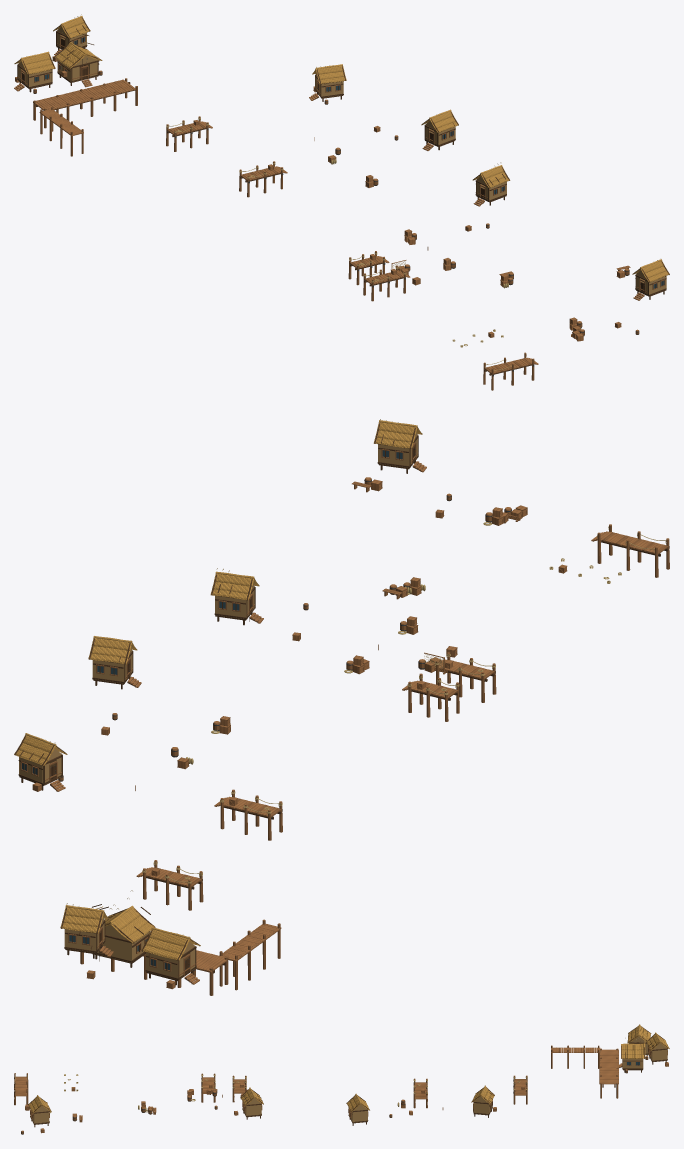
Rendered from coast.glb.
The picture shows the model from 3 angles, top to bottom: view 1: azimuth 30°, elevation 25°; view 2: azimuth 150°, elevation 25°; view 3: azimuth 270°, elevation 25°; orthographic projection. The views are drawn at different scales.
Visible parts, largest first — view 1: Solid_Ref_D19_Wood, Solid_Ref_D19_Deck, Solid_Ref_D19_DryThatch, Solid_Ref_D19_Beam, Solid_Ref_D19_WovenWall; view 2: Solid_Ref_D19_Wood, Solid_Ref_D19_DryThatch, Solid_Ref_D19_Deck, Solid_Ref_D19_WovenWall, Solid_Ref_D19_Beam, Solid_Ref_Rope; view 3: Solid_Ref_D19_Deck, Solid_Ref_D19_Wood, Solid_Ref_D19_DryThatch, Solid_Ref_D19_WovenWall, Solid_Ref_D19_Beam, Solid_Ref_Rope.
Boxes of the visible parts, box(x1,y1,x2,y2) form: Solid_Ref_D19_Wood: box(15, 35, 665, 390); Solid_Ref_D19_Deck: box(14, 49, 644, 373); Solid_Ref_D19_DryThatch: box(14, 16, 669, 282); Solid_Ref_D19_Beam: box(15, 17, 669, 375); Solid_Ref_D19_WovenWall: box(18, 27, 666, 295); Solid_Ref_D19_Wood: box(20, 442, 669, 995); Solid_Ref_D19_DryThatch: box(14, 420, 422, 960); Solid_Ref_D19_Deck: box(33, 461, 669, 988); Solid_Ref_D19_WovenWall: box(19, 433, 417, 978); Solid_Ref_D19_Beam: box(14, 422, 668, 985); Solid_Ref_Rope: box(142, 522, 666, 884); Solid_Ref_D19_Deck: box(14, 1047, 668, 1132); Solid_Ref_D19_Wood: box(14, 1042, 668, 1134); Solid_Ref_D19_DryThatch: box(28, 1024, 669, 1113); Solid_Ref_D19_WovenWall: box(30, 1036, 667, 1124); Solid_Ref_D19_Beam: box(28, 1026, 669, 1127); Solid_Ref_Rope: box(15, 1074, 527, 1112).
Bounding box in the file's own units: 37.5 × 10.52 × 105.
12 materials, 6 textured.
